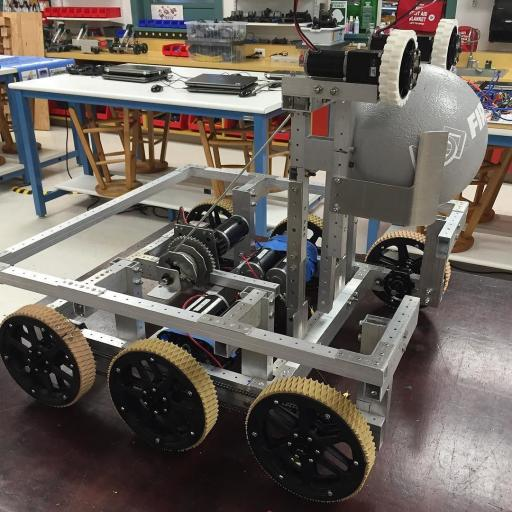robot: (10, 18, 474, 492)
